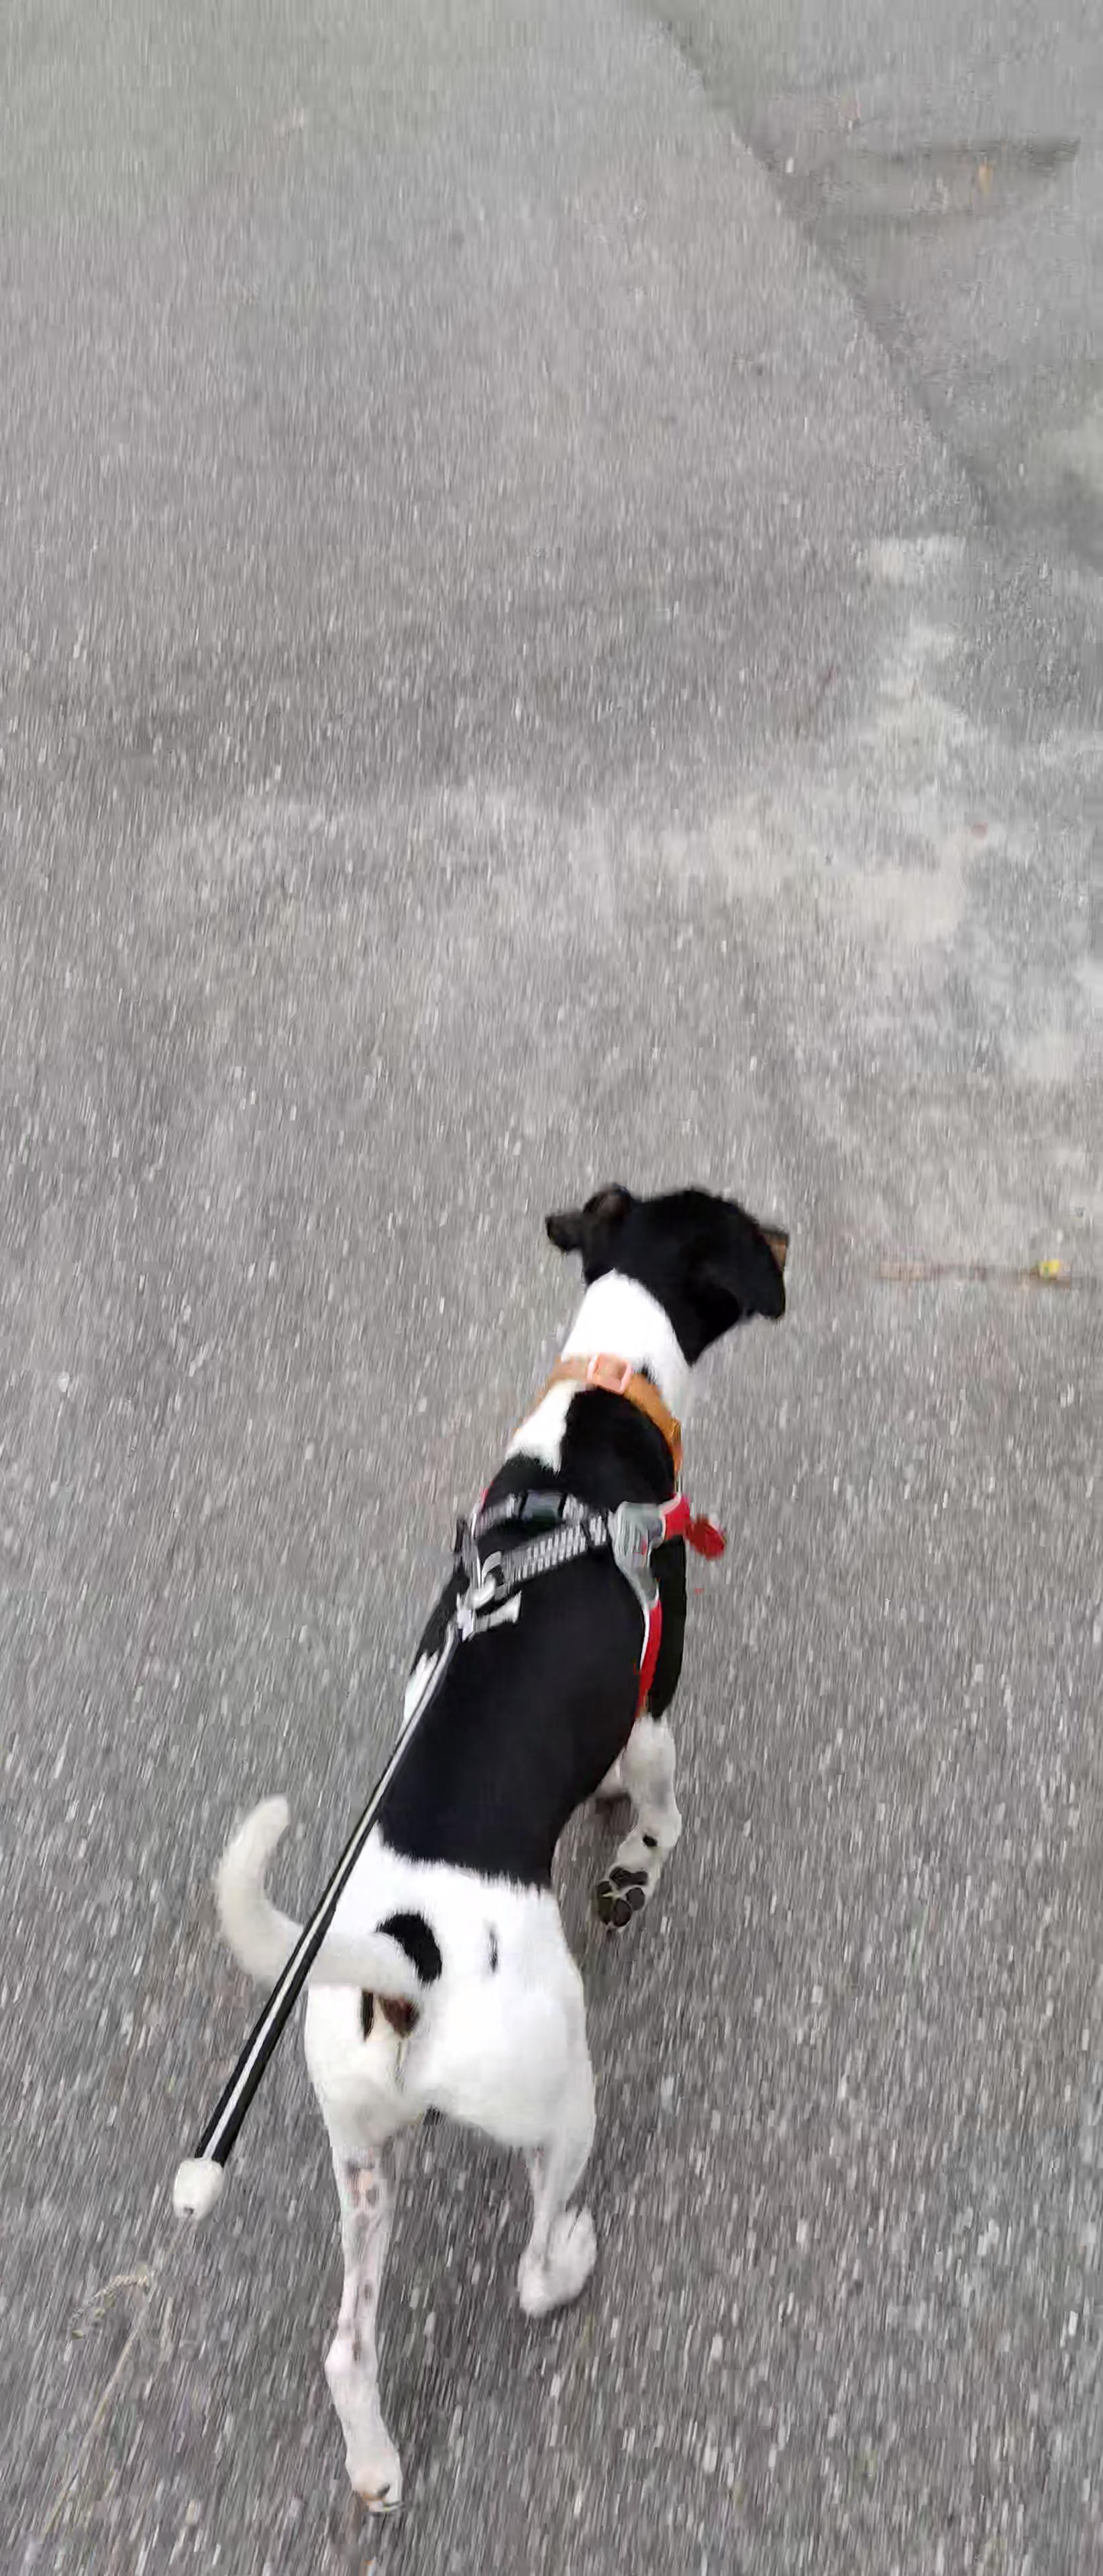Dog: (153, 1160, 825, 2528)
